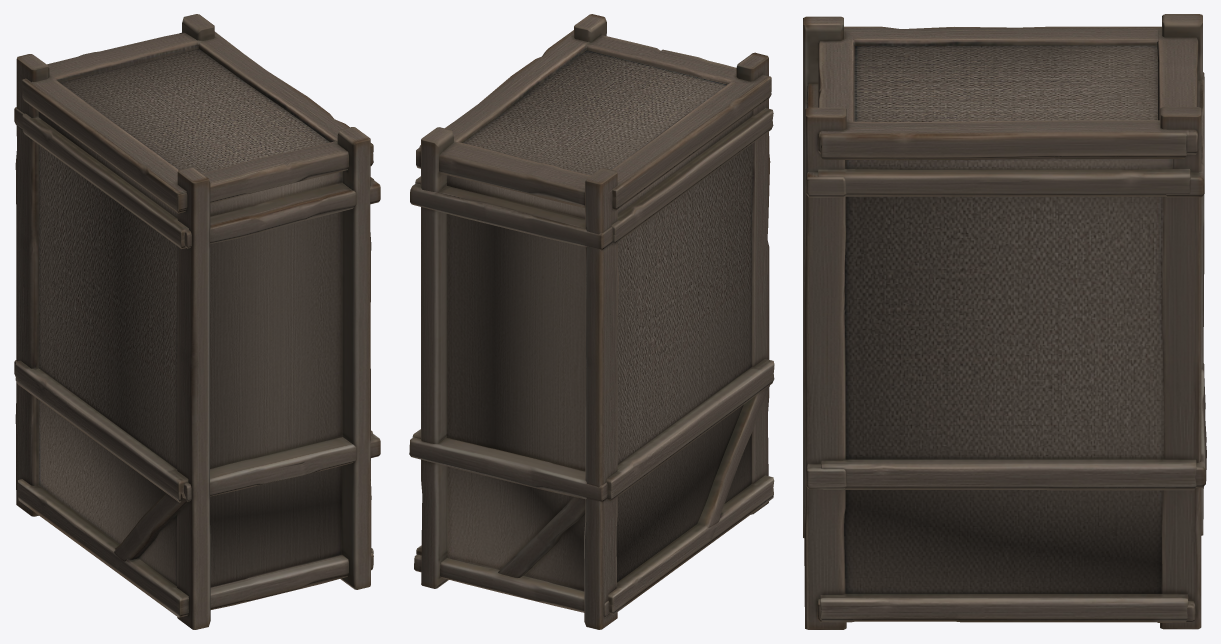
The model's file is muro_pannelli.fbx.
The picture shows the model from 3 angles, left to right: view 1: azimuth 30°, elevation 25°; view 2: azimuth 150°, elevation 25°; view 3: azimuth 270°, elevation 25°; orthographic projection. The views are drawn at different scales.
Visible parts, largest first — view 1: tripo_node_3f219376; view 2: tripo_node_3f219376; view 3: tripo_node_3f219376.
Part boxes in pixels (x1=…): tripo_node_3f219376: x1=14, y1=14, x2=380, y2=629; tripo_node_3f219376: x1=409, y1=14, x2=774, y2=629; tripo_node_3f219376: x1=803, y1=14, x2=1206, y2=629.
Size of the model in its own units: 0.4653 by 0.9995 by 0.7124.
Materials: 1 (1 with a texture image).
